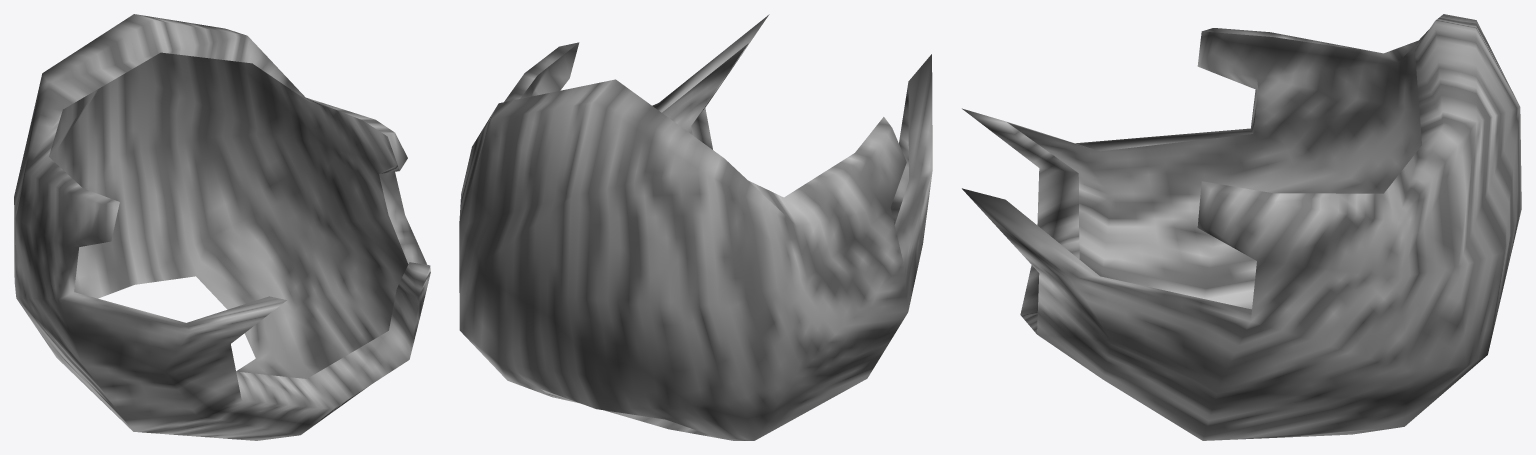
The model's file is Wig_M_Hair_Baldspot.fbx.
3 renders of one model, left to right at view 1: azimuth 30°, elevation 25°; view 2: azimuth 150°, elevation 25°; view 3: azimuth 270°, elevation 25°, orthographic. The views are drawn at different scales.
Visible parts, largest first — view 1: BoxOfJars003; view 2: BoxOfJars003; view 3: BoxOfJars003.
Part boxes in pixels (box(x1,y1,x2,y2)): BoxOfJars003: box(14, 14, 430, 440); BoxOfJars003: box(459, 14, 932, 440); BoxOfJars003: box(962, 14, 1521, 440).
Bounding box in the file's own units: 12.17 × 11.58 × 14.92.
